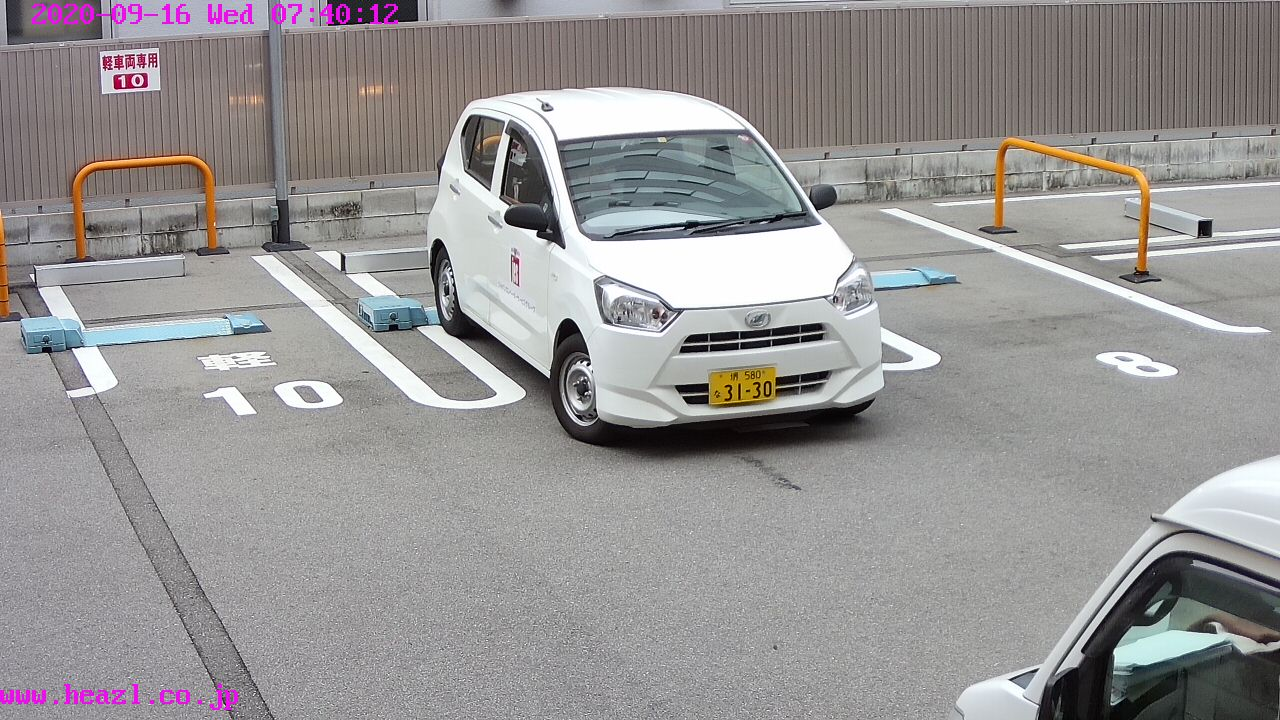number_plate: (709, 368, 776, 405)
